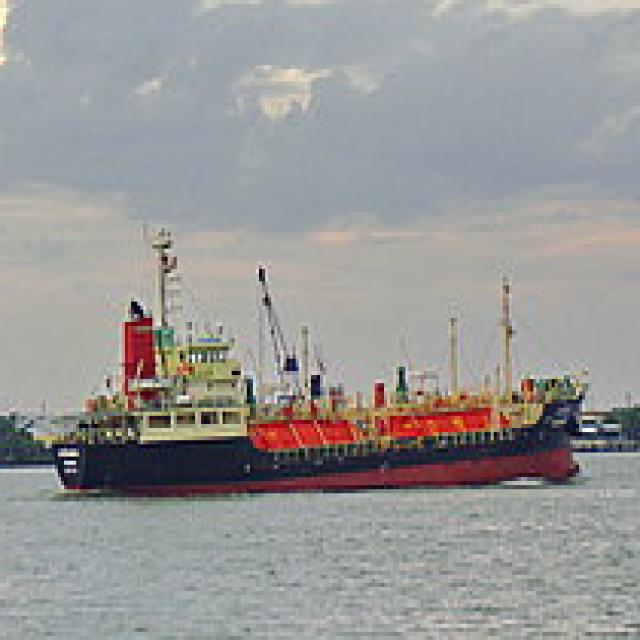Tanker: (49, 225, 597, 498)
